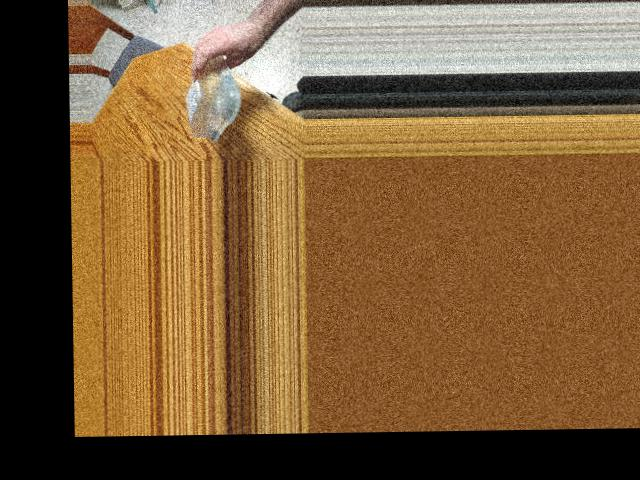cheese: (182, 38, 237, 142)
